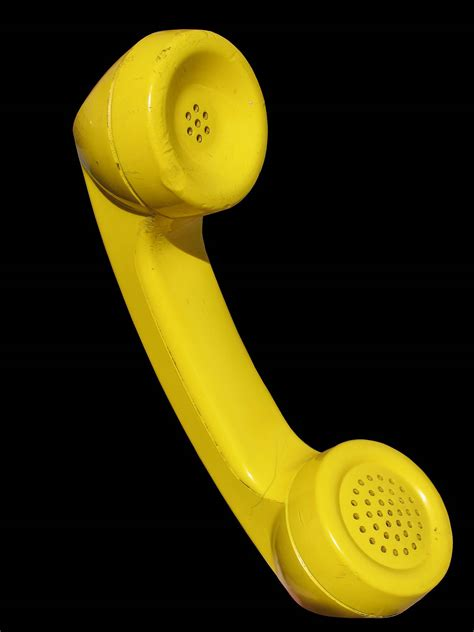???: (71, 29, 454, 619)
